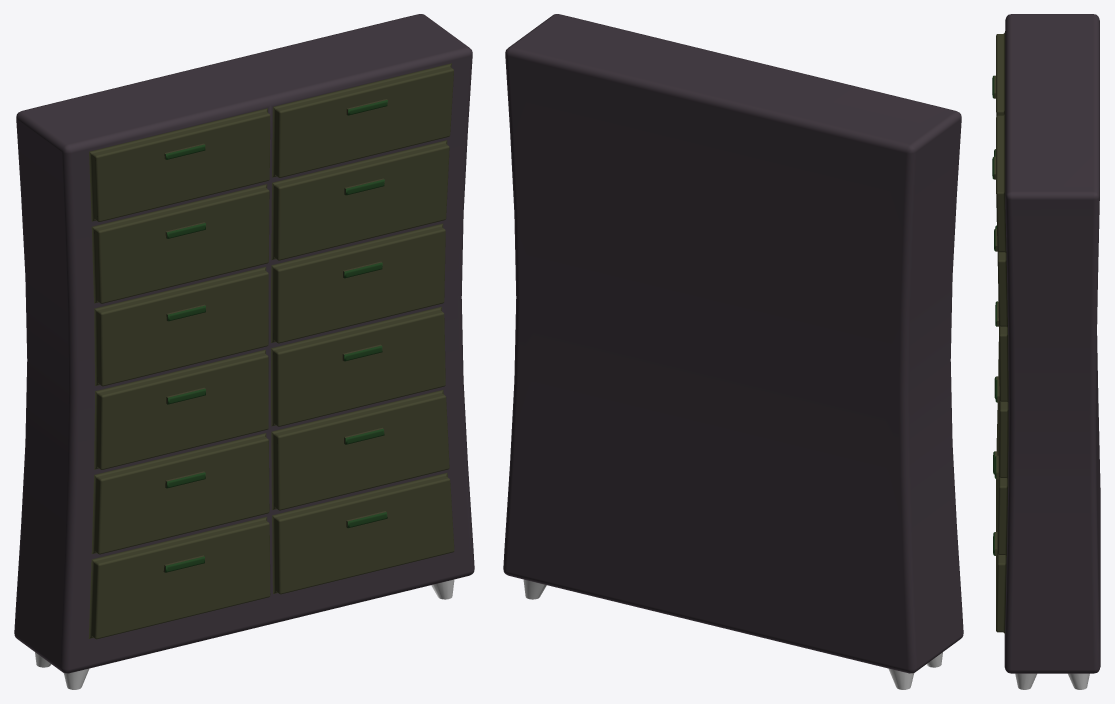
The model's file is shelf.fbx.
3 renders of one model, left to right at view 1: azimuth 30°, elevation 25°; view 2: azimuth 150°, elevation 25°; view 3: azimuth 270°, elevation 25°, orthographic. The views are drawn at different scales.
Visible parts, largest first — view 1: dreamShelf; view 2: dreamShelf; view 3: dreamShelf.
Part boxes in pixels (x1,y1,x2,y2): dreamShelf: (14,14,474,689); dreamShelf: (503,14,963,689); dreamShelf: (992,14,1100,689).
Bounding box in the file's own units: 372 × 474 × 92.46.
